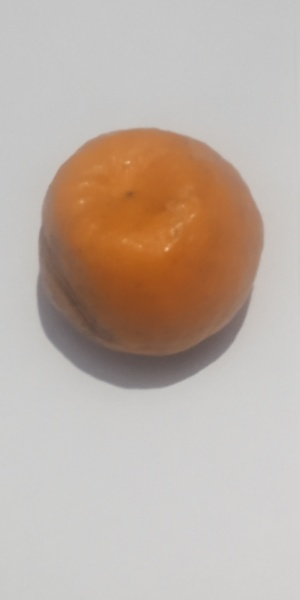BAD: (35, 122, 267, 361)
